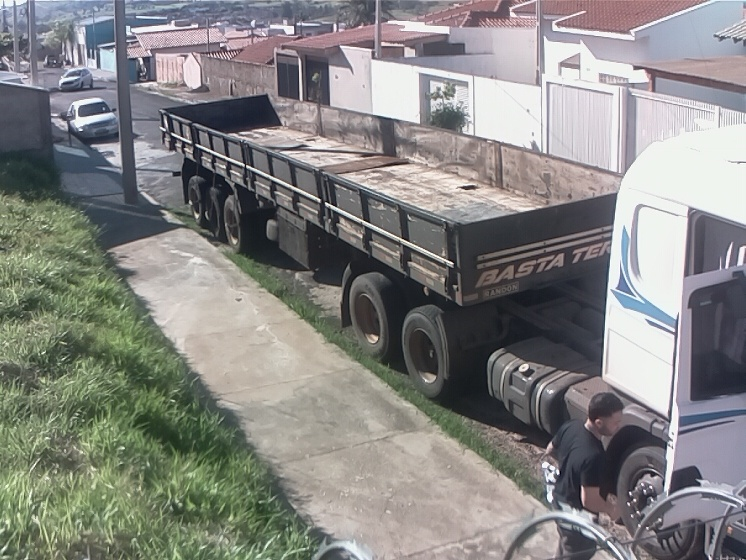person: (542, 389, 626, 560)
